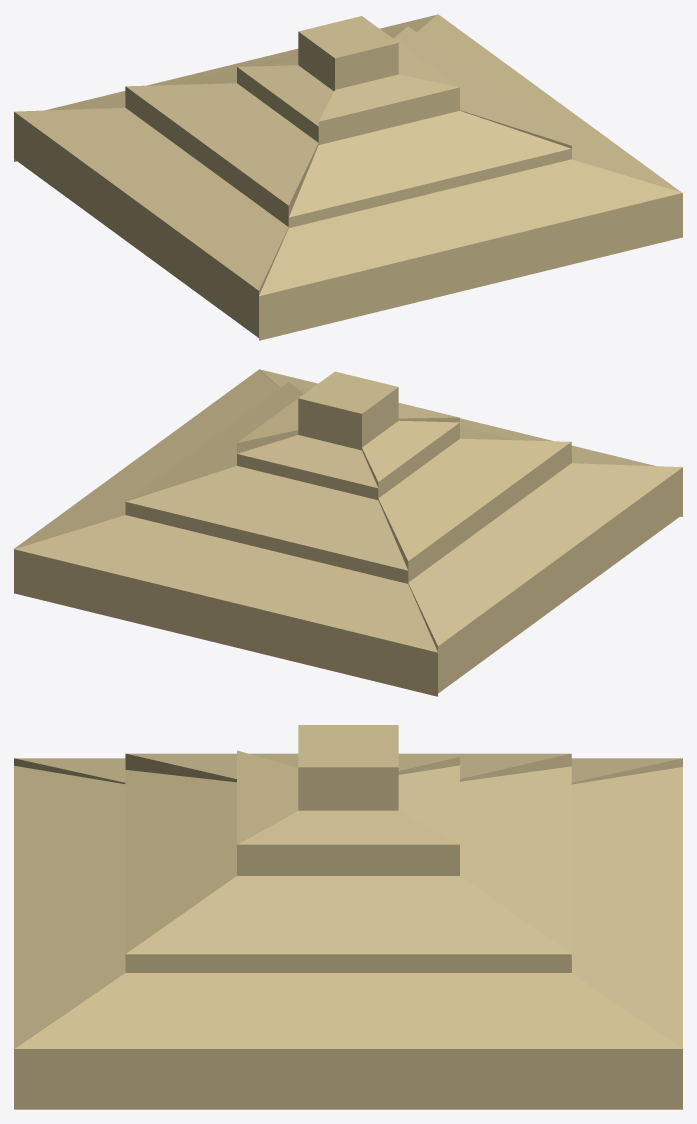
The model's file is thatch_roof_peak_low.glb.
The picture shows the model from 3 angles, top to bottom: view 1: azimuth 30°, elevation 25°; view 2: azimuth 150°, elevation 25°; view 3: azimuth 270°, elevation 25°; orthographic projection. The views are drawn at different scales.
Parts seen in each view (by area): view 1: Roof; view 2: Roof; view 3: Roof.
Boxes of the visible parts, x1,y1,x2,y2 form: Roof: [14, 14, 682, 340]; Roof: [14, 369, 682, 696]; Roof: [14, 725, 682, 1109].
Bounding box in the file's own units: 3 × 1.1 × 3.
